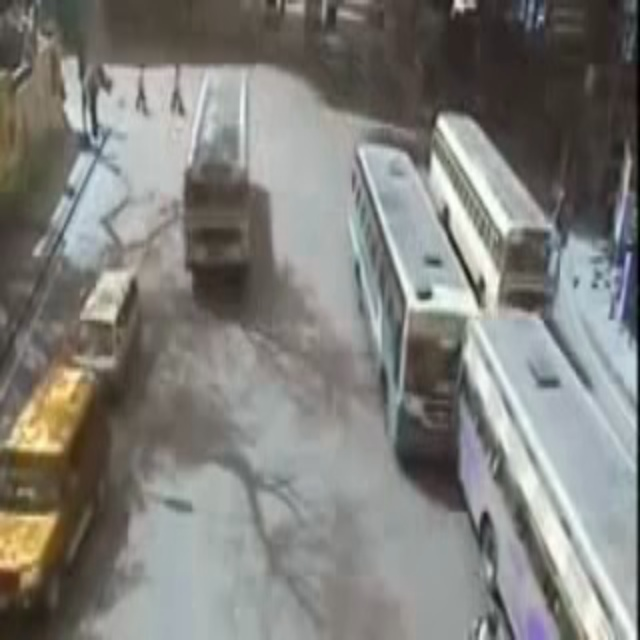acc: (360, 270, 571, 499)
